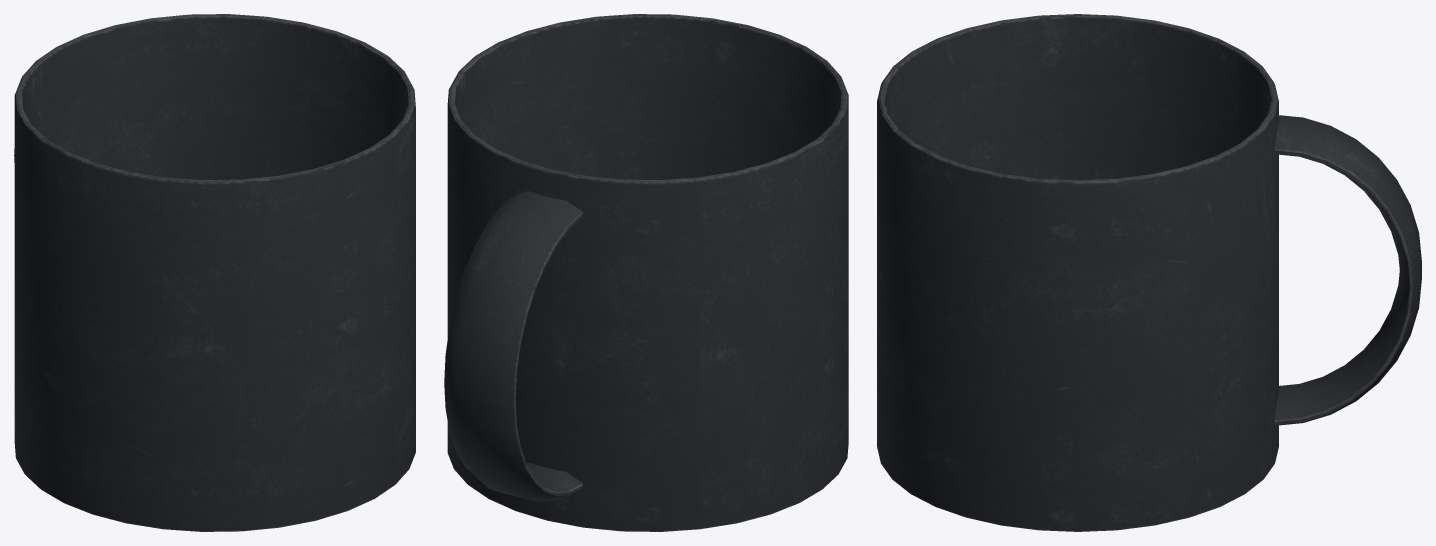
The model's file is SM_Cup_001.fbx.
3 views of the same model, side by side, from view 1: azimuth 30°, elevation 25°; view 2: azimuth 150°, elevation 25°; view 3: azimuth 270°, elevation 25° (orthographic).
Parts seen in each view (by area): view 1: SM_Cup_001; view 2: SM_Cup_001; view 3: SM_Cup_001.
Part boxes in pixels (<box>): SM_Cup_001: <box>14,14,415,531</box>; SM_Cup_001: <box>444,14,848,531</box>; SM_Cup_001: <box>877,14,1421,531</box>.
Size of the model in its own units: 10.49 by 10.08 by 14.22.
1 material, 1 textured.
